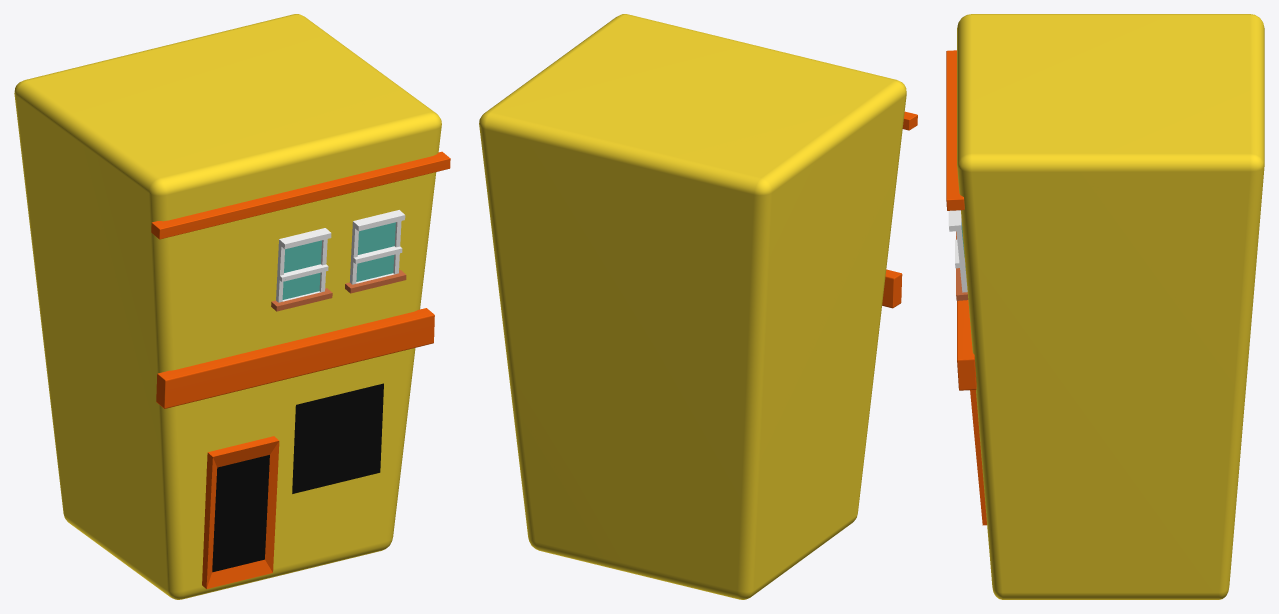
Rendered from prediozin_1.dae.
3 views of the same model, side by side, from view 1: azimuth 30°, elevation 25°; view 2: azimuth 150°, elevation 25°; view 3: azimuth 270°, elevation 25° (orthographic). The views are drawn at different scales.
Visible parts, largest first — view 1: pCube38, pCube36, pCube33, pPlane6, pCube34, pCube32, pCube35; view 2: pCube38, pCube36; view 3: pCube38, pCube34, pCube36, pCube32, pCube33.
Boxes of the visible parts, x1,y1,x2,y2 form: pCube38: (14, 14, 441, 599); pCube36: (156, 308, 434, 408); pCube33: (202, 436, 279, 588); pPlane6: (292, 383, 383, 493); pCube34: (151, 151, 450, 239); pCube32: (345, 210, 406, 293); pCube35: (271, 228, 332, 311); pCube38: (479, 14, 906, 599); pCube36: (882, 269, 902, 308); pCube38: (957, 14, 1264, 599); pCube34: (946, 50, 964, 210); pCube36: (957, 300, 976, 390); pCube32: (948, 210, 968, 300); pCube33: (970, 390, 986, 525).
Bounding box in the file's own units: 3.32 × 4.77 × 2.97.
